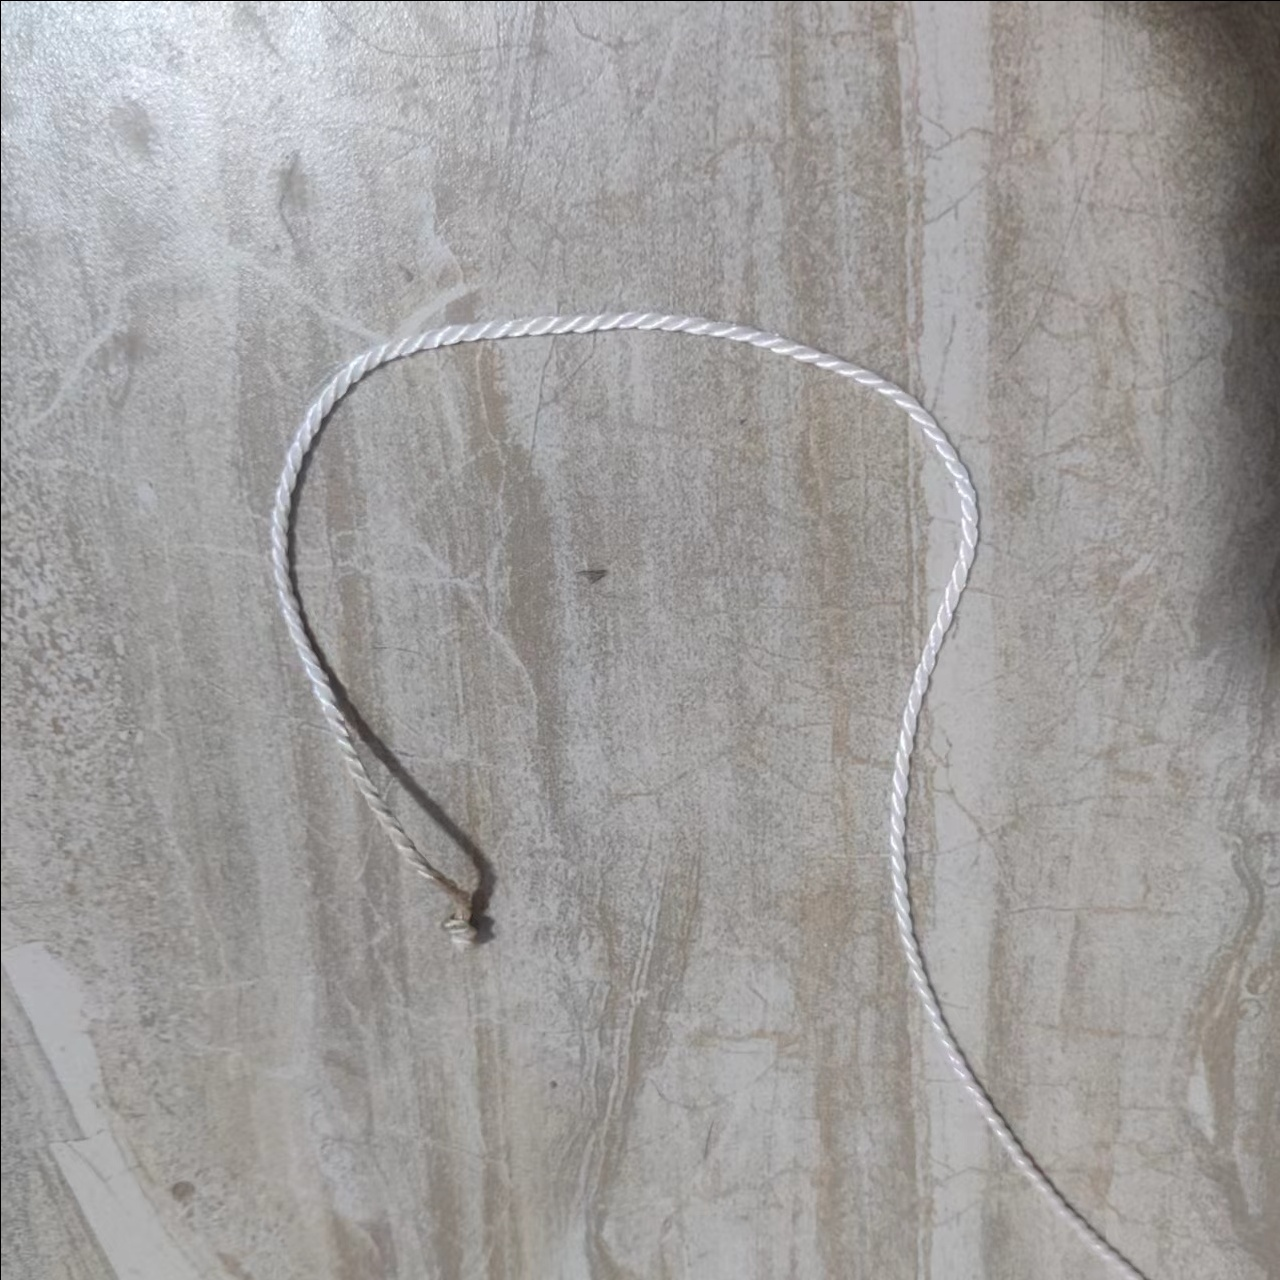9/可回收垃圾/绳子: (268, 309, 1142, 1280)
